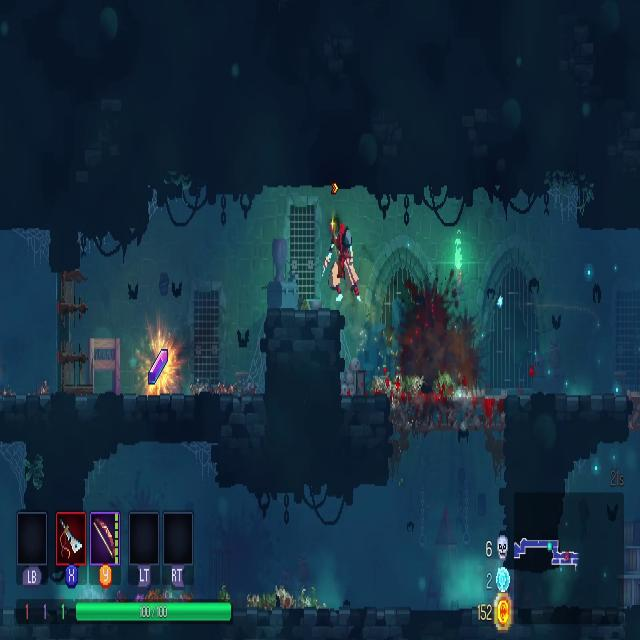agents: (323, 213, 365, 307)
wood_floor: (396, 390, 504, 432)
